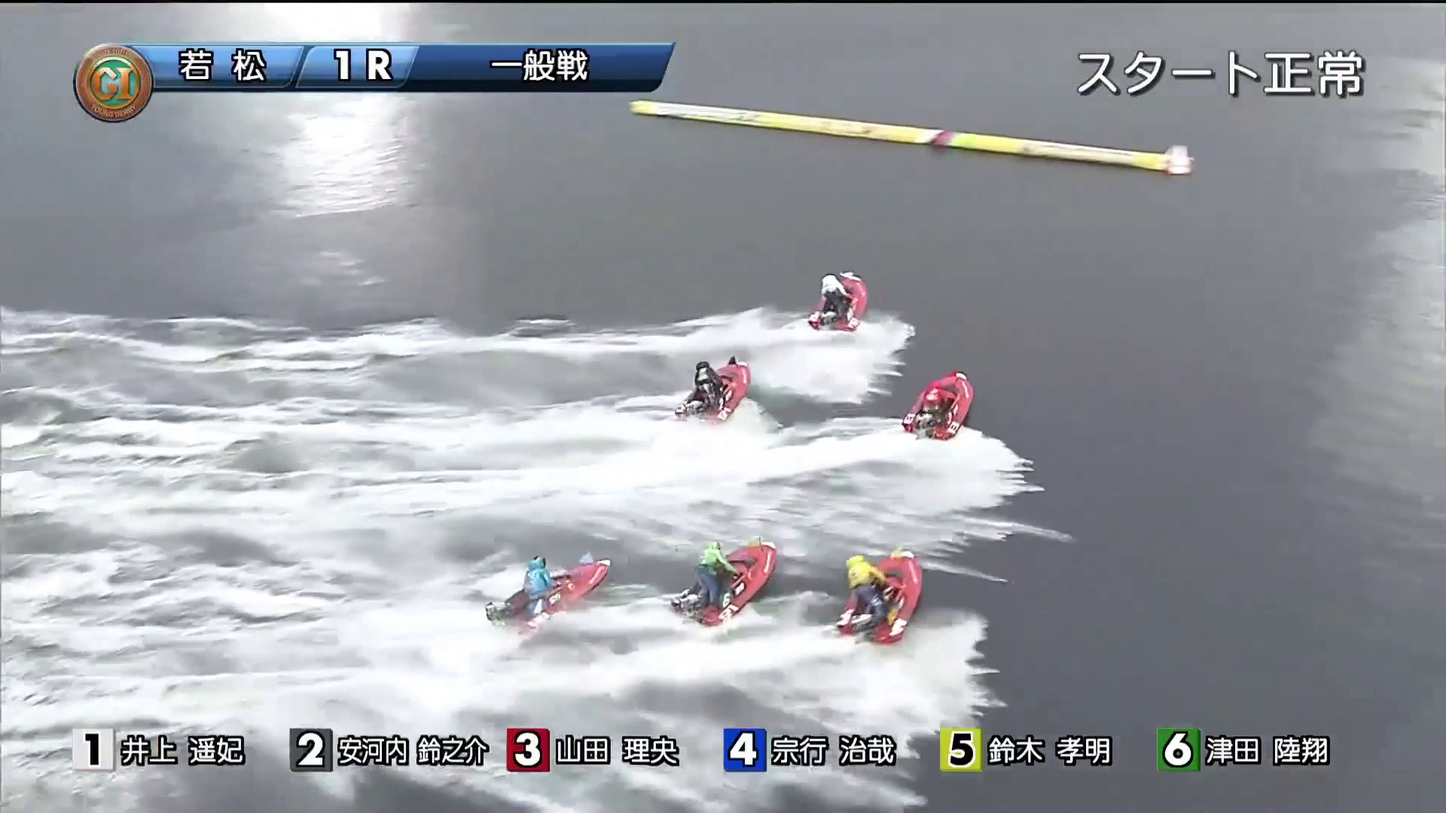１号艇: (788, 271, 898, 325)
２号艇: (650, 354, 779, 415)
３号艇: (882, 386, 1004, 433)
４号艇: (639, 541, 773, 606)
５号艇: (452, 564, 576, 619)
６号艇: (823, 553, 923, 610)
